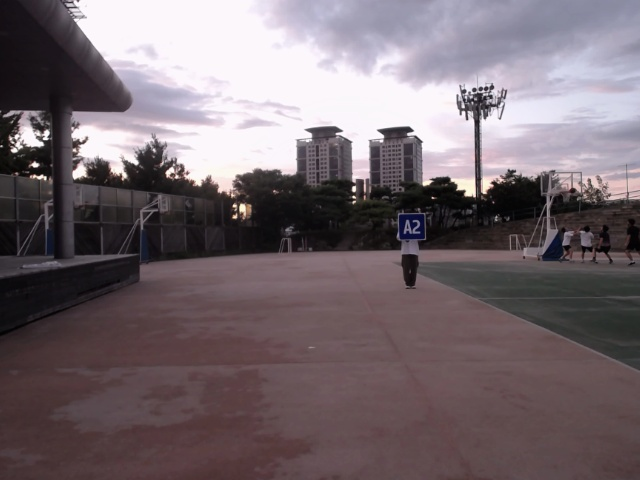delivery_a2: (398, 213, 426, 240)
